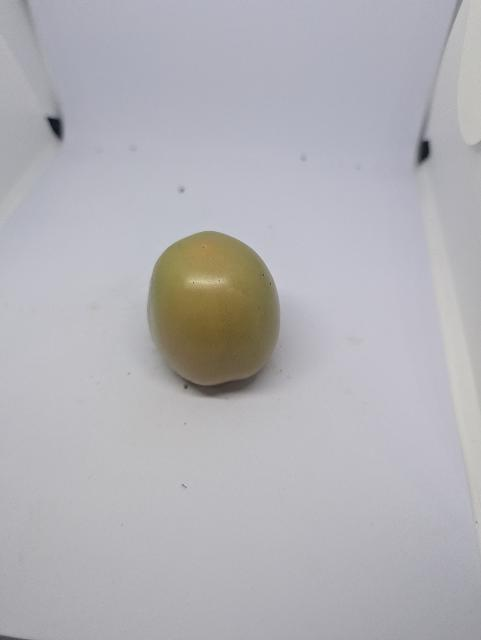breaker: (147, 224, 286, 392)
